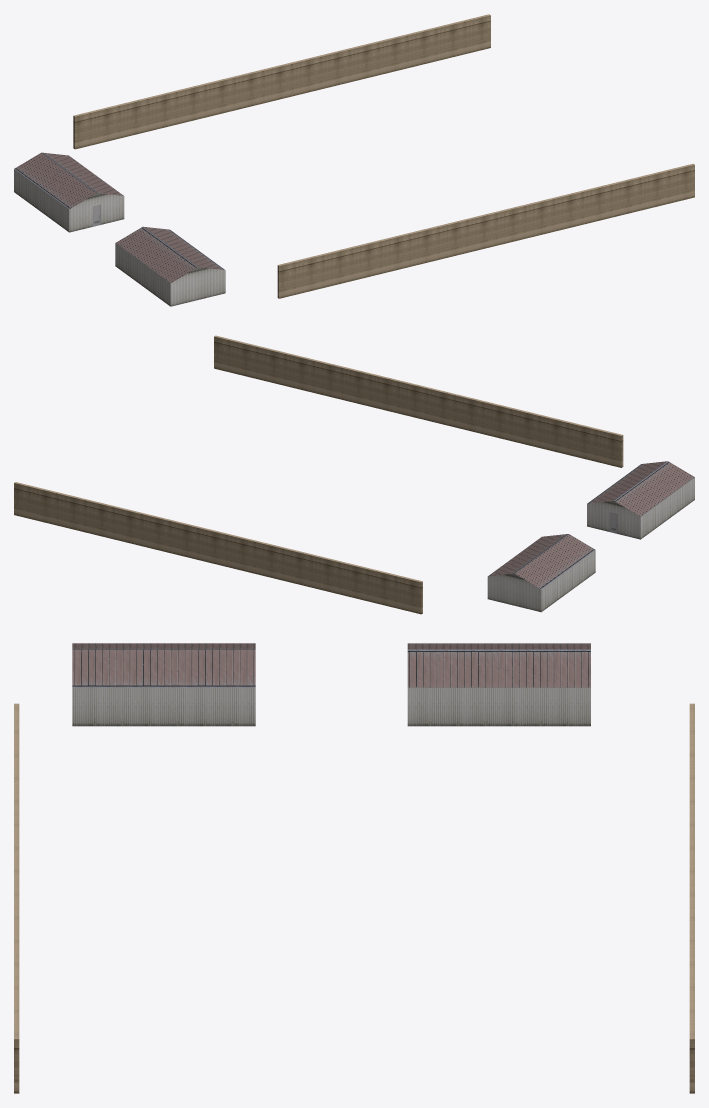
Rendered from des_substa_bldgs.obj.
3 views of the same model, one above another, from view 1: azimuth 30°, elevation 25°; view 2: azimuth 150°, elevation 25°; view 3: azimuth 270°, elevation 25° (orthographic). The views are drawn at different scales.
Parts seen in each view (by area): view 1: des_substa_bldgs; view 2: des_substa_bldgs; view 3: des_substa_bldgs.
Part boxes in pixels (<box>): des_substa_bldgs: <box>14,14,694,306</box>; des_substa_bldgs: <box>14,335,694,614</box>; des_substa_bldgs: <box>14,643,694,1093</box>.
Bounding box in the file's own units: 52.76 × 3.41 × 37.09.
Materials: 4 (4 with a texture image).
